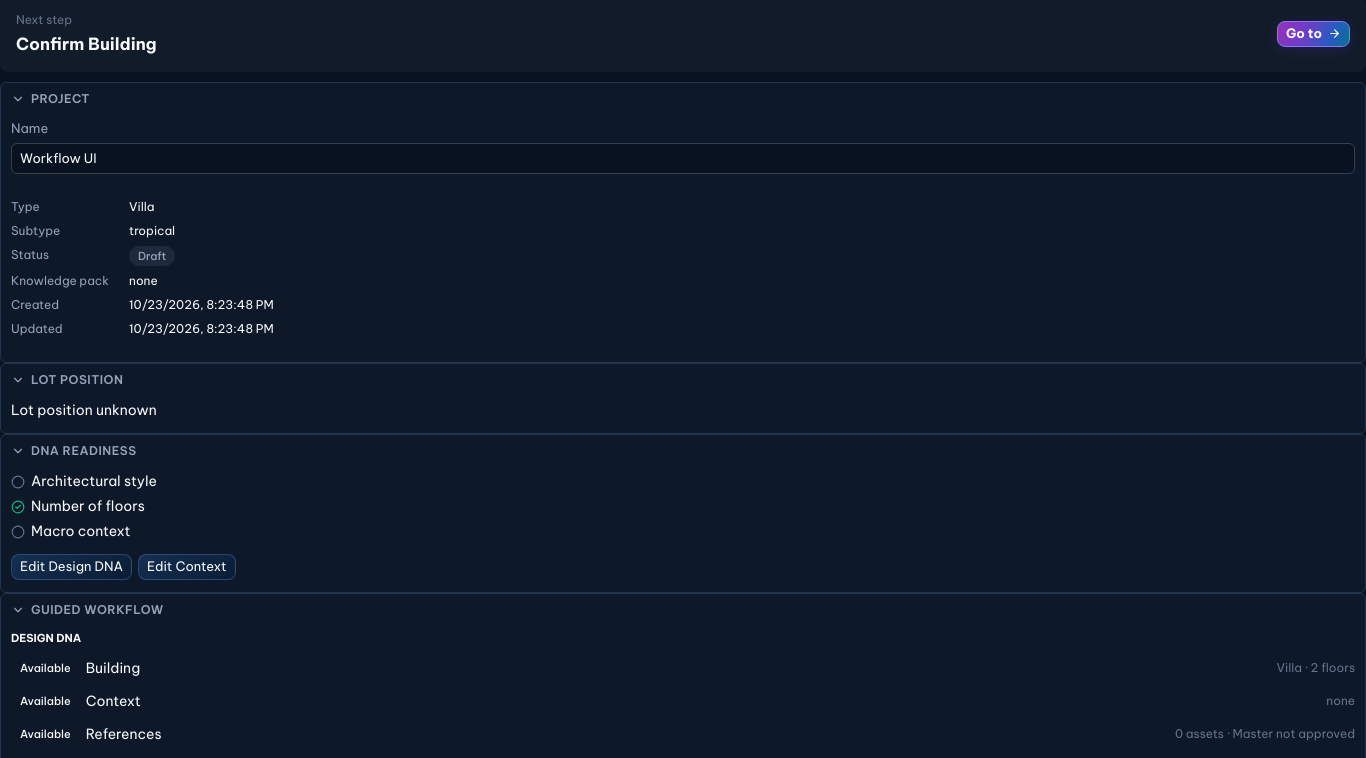
Test: round 1 workflow UI regressions › shows real DNA summaries and quick edits only for available steps
Expected: the text "Villa" is shown, [129,199,154,214]
Click the text "Building".
click(45, 668)  # box [11,658,140,679]
(page scrolled)
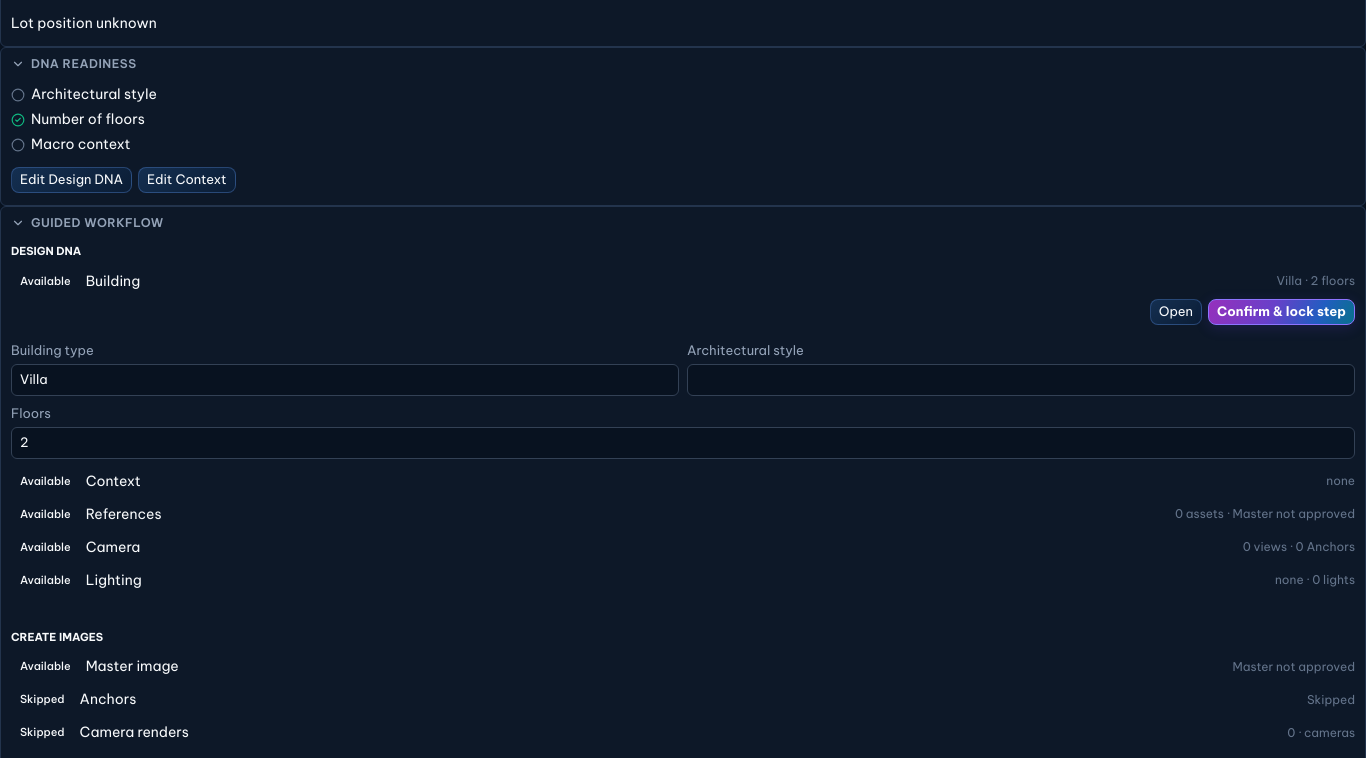
Now the field labelled "Building type" is enabled, box [11,364,679,396]
